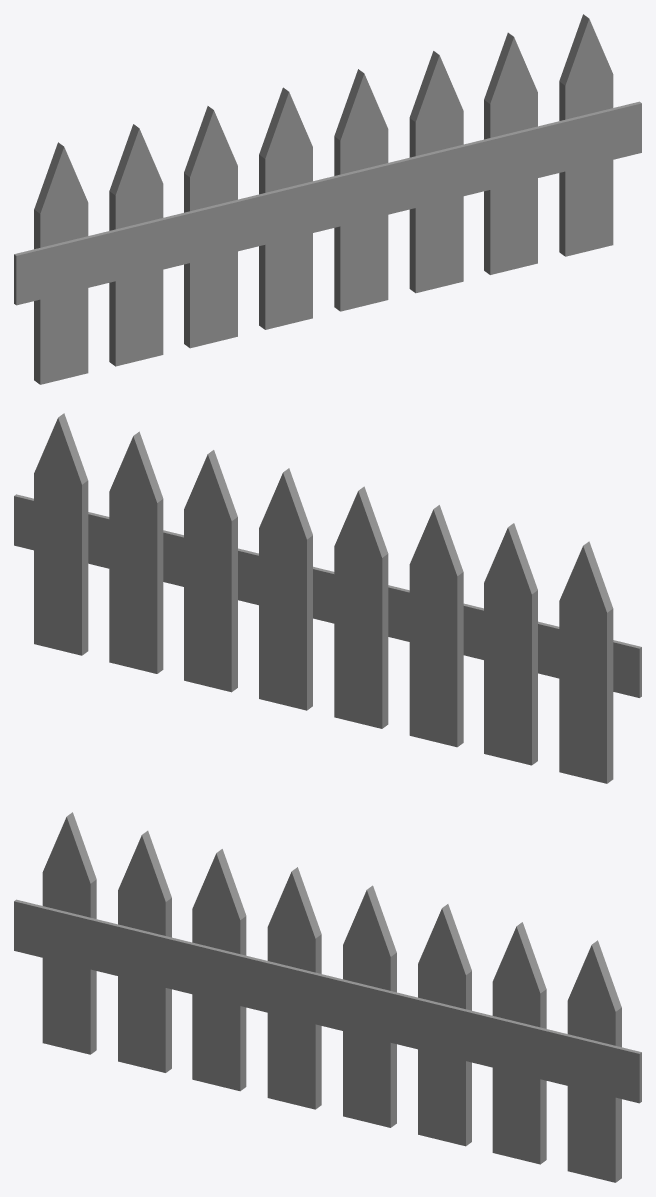
Rendered from Fence.FBX.
3 views of the same model, one above another, from view 1: azimuth 30°, elevation 25°; view 2: azimuth 150°, elevation 25°; view 3: azimuth 330°, elevation 25° (orthographic).
Visible parts, largest first — view 1: Box016; view 2: Box016; view 3: Box016.
Part boxes in pixels (box(x1,y1,x2,y2)): Box016: box(14, 14, 641, 384); Box016: box(14, 413, 641, 783); Box016: box(14, 812, 641, 1182).
Size of the model in its own units: 34.23 by 12.15 by 0.81.
